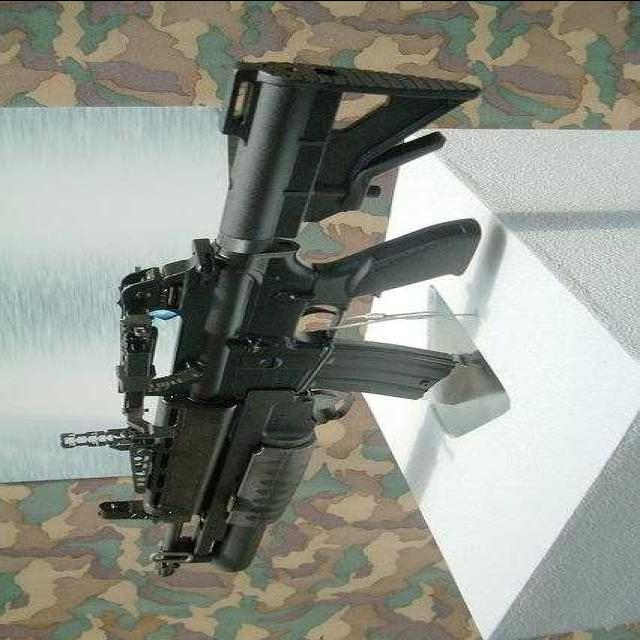heavyweapon: (81, 44, 535, 583)
